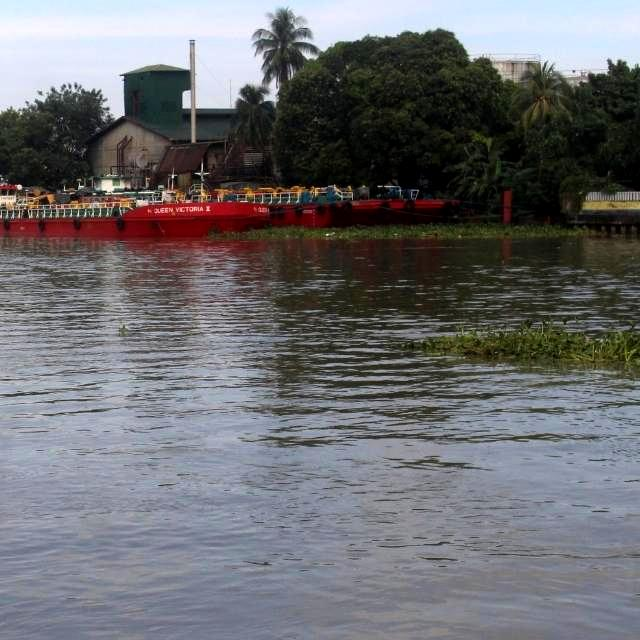water-hyacinth: (402, 316, 640, 373), (230, 218, 587, 249)
